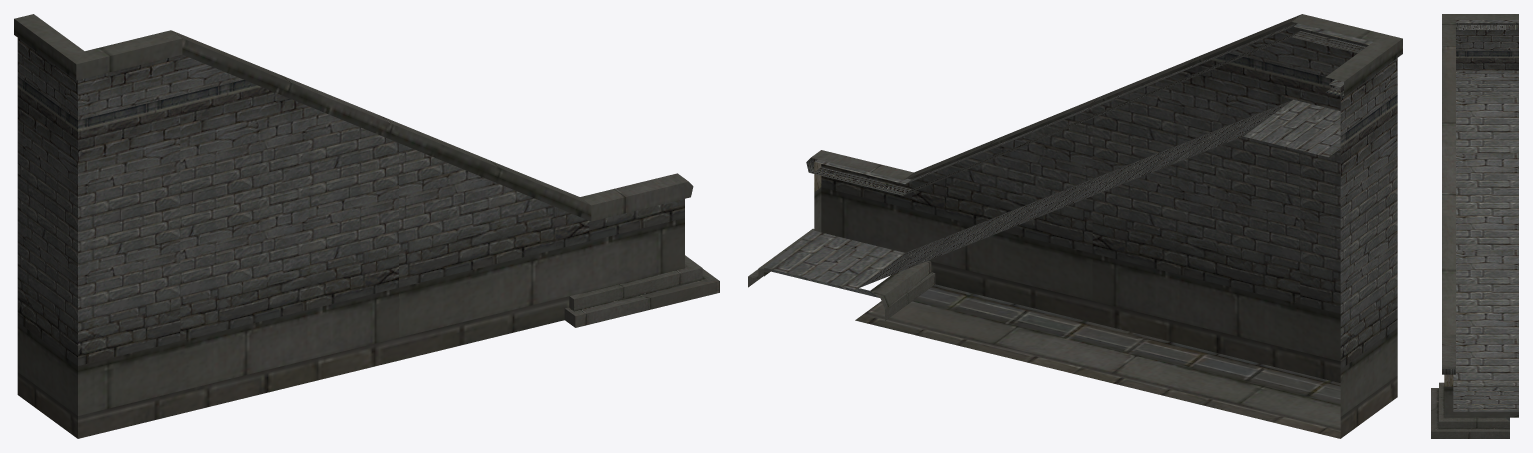
The model's file is s7_3d_jz_cqlouti.FBX.
3 views of the same model, side by side, from view 1: azimuth 30°, elevation 25°; view 2: azimuth 150°, elevation 25°; view 3: azimuth 270°, elevation 25° (orthographic). The views are drawn at different scales.
Visible parts, largest first — view 1: Line001; view 2: Line001; view 3: Line001.
Part boxes in pixels (x1=…): Line001: x1=14, y1=14, x2=719, y2=438; Line001: x1=748, y1=14, x2=1402, y2=438; Line001: x1=1431, y1=14, x2=1518, y2=438.
Bounding box in the file's own units: 2585 × 1467 × 501.
